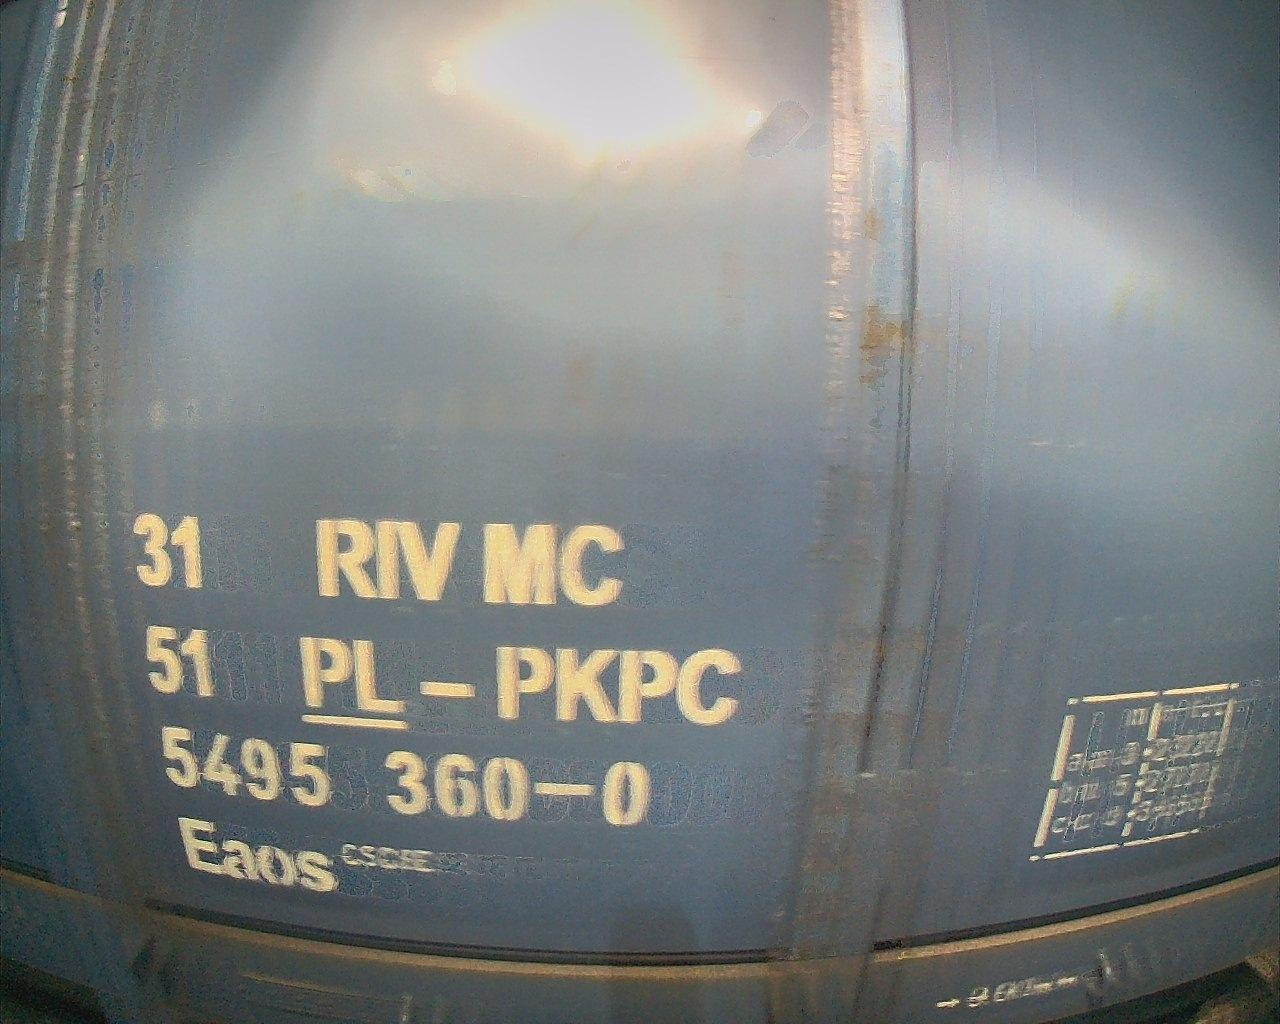UIC: (123, 506, 746, 900)
